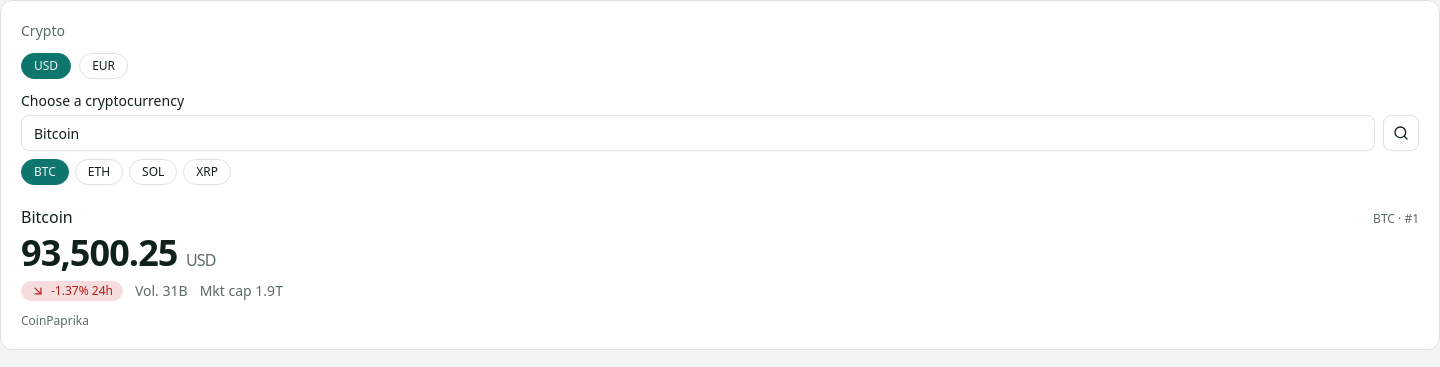
Test case: CryptoCard › switches the quote currency to EUR
The width and height of the screenshot is (1440, 367).
Expected: the text "93,500.25" is shown, 21,228 -> 178,277
Click the button "EUR" at point(104, 66), box 79,53 -> 128,79
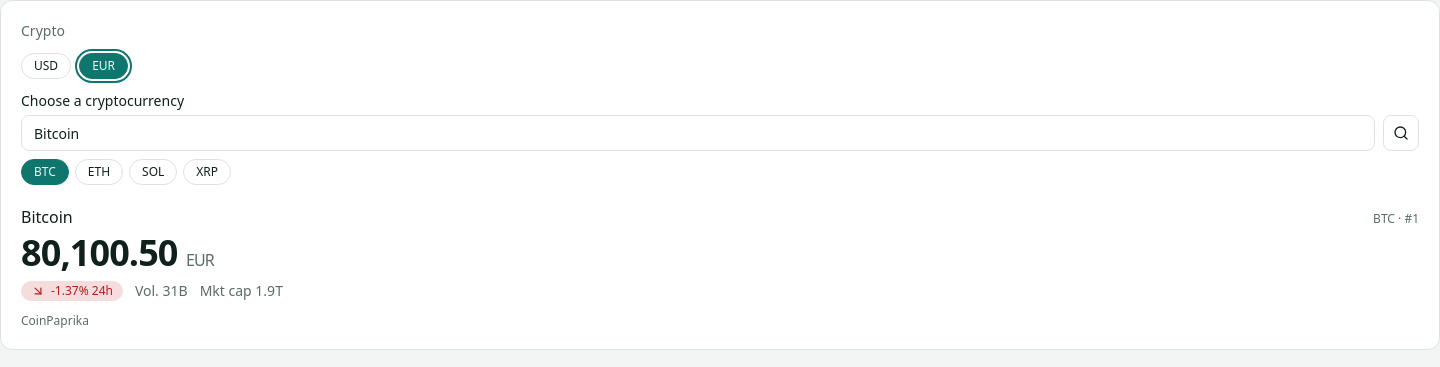
Result: the text "80,100.50" is shown at 21,228 -> 178,277
